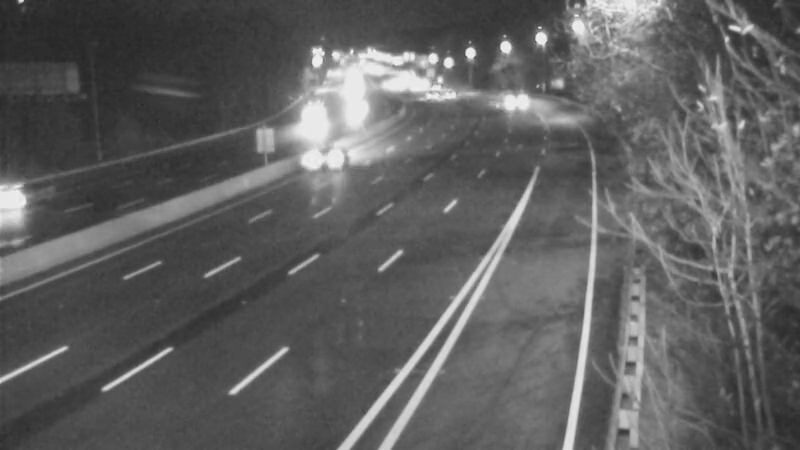vehicle: (288, 119, 368, 199), (1, 156, 73, 236), (426, 73, 476, 123), (403, 71, 453, 121), (492, 76, 542, 126), (276, 85, 326, 135)
